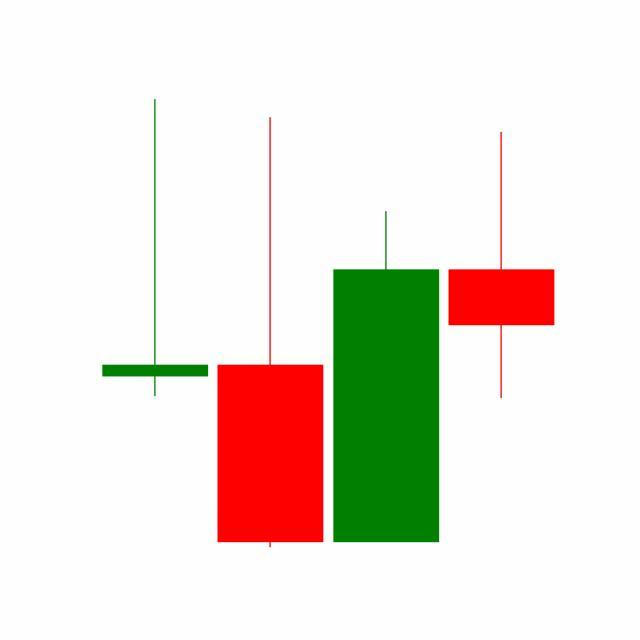Spinning Top: (444, 130, 560, 402)
